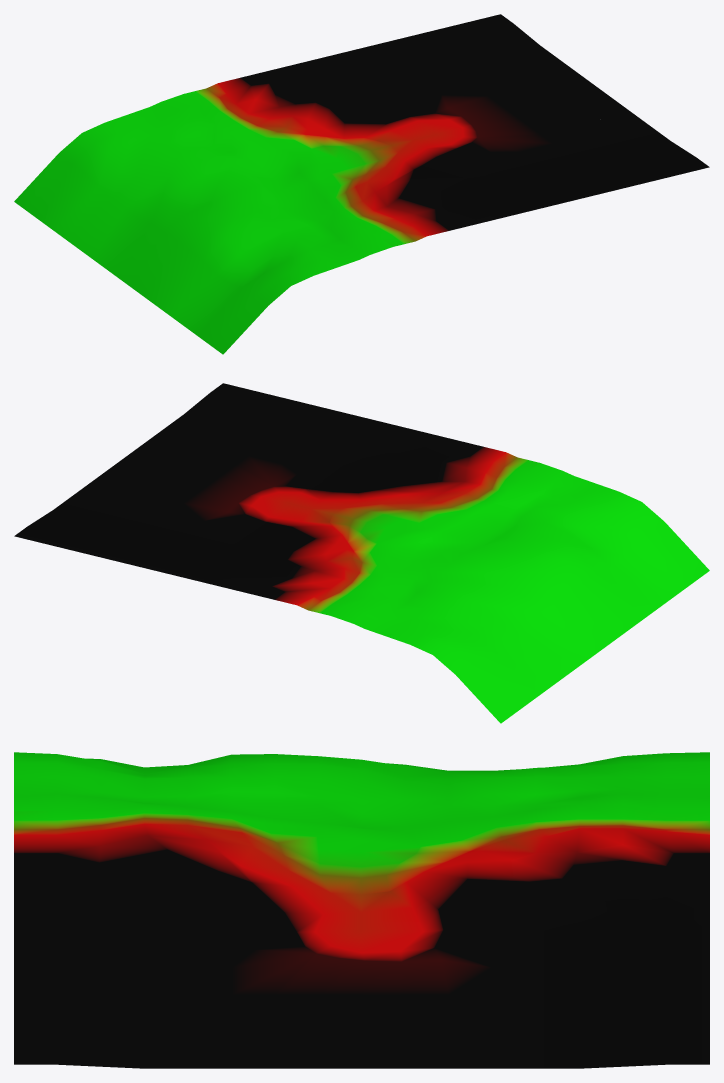
File: Section_WaySafePlace01_Coast_Terrain.fbx
3 renders of one model, top to bottom at view 1: azimuth 30°, elevation 25°; view 2: azimuth 150°, elevation 25°; view 3: azimuth 270°, elevation 25°, orthographic. The views are drawn at different scales.
Visible parts, largest first — view 1: Section_WaySafePlace01_Coast_Terrain; view 2: Section_WaySafePlace01_Coast_Terrain; view 3: Section_WaySafePlace01_Coast_Terrain.
Boxes of the visible parts, x1,y1,x2,y2 form: Section_WaySafePlace01_Coast_Terrain: [14, 14, 709, 354]; Section_WaySafePlace01_Coast_Terrain: [14, 383, 709, 723]; Section_WaySafePlace01_Coast_Terrain: [14, 752, 709, 1068].
Size of the model in its own units: 10750 by 1450 by 8000.
